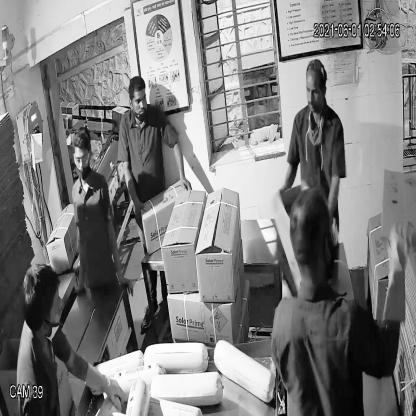goggles: (70, 146, 93, 171)
no_goggles: (302, 81, 327, 103)
